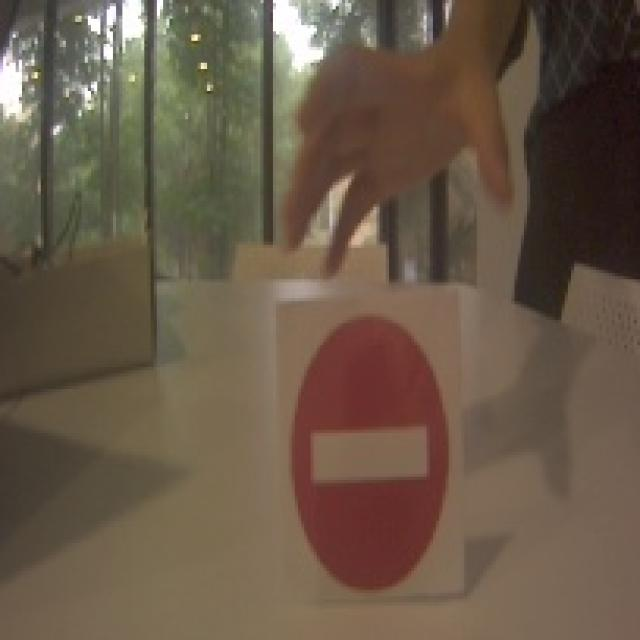DoNotEnterSign: (283, 312, 451, 595)
